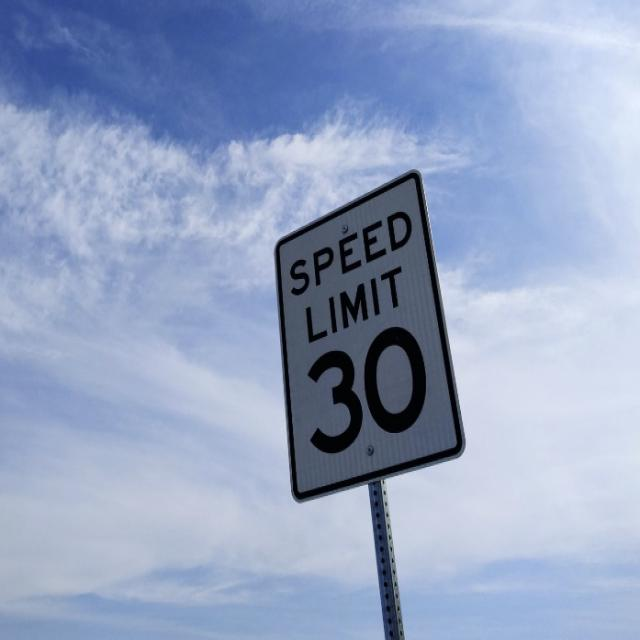speedLimit30: (284, 212, 443, 453)
